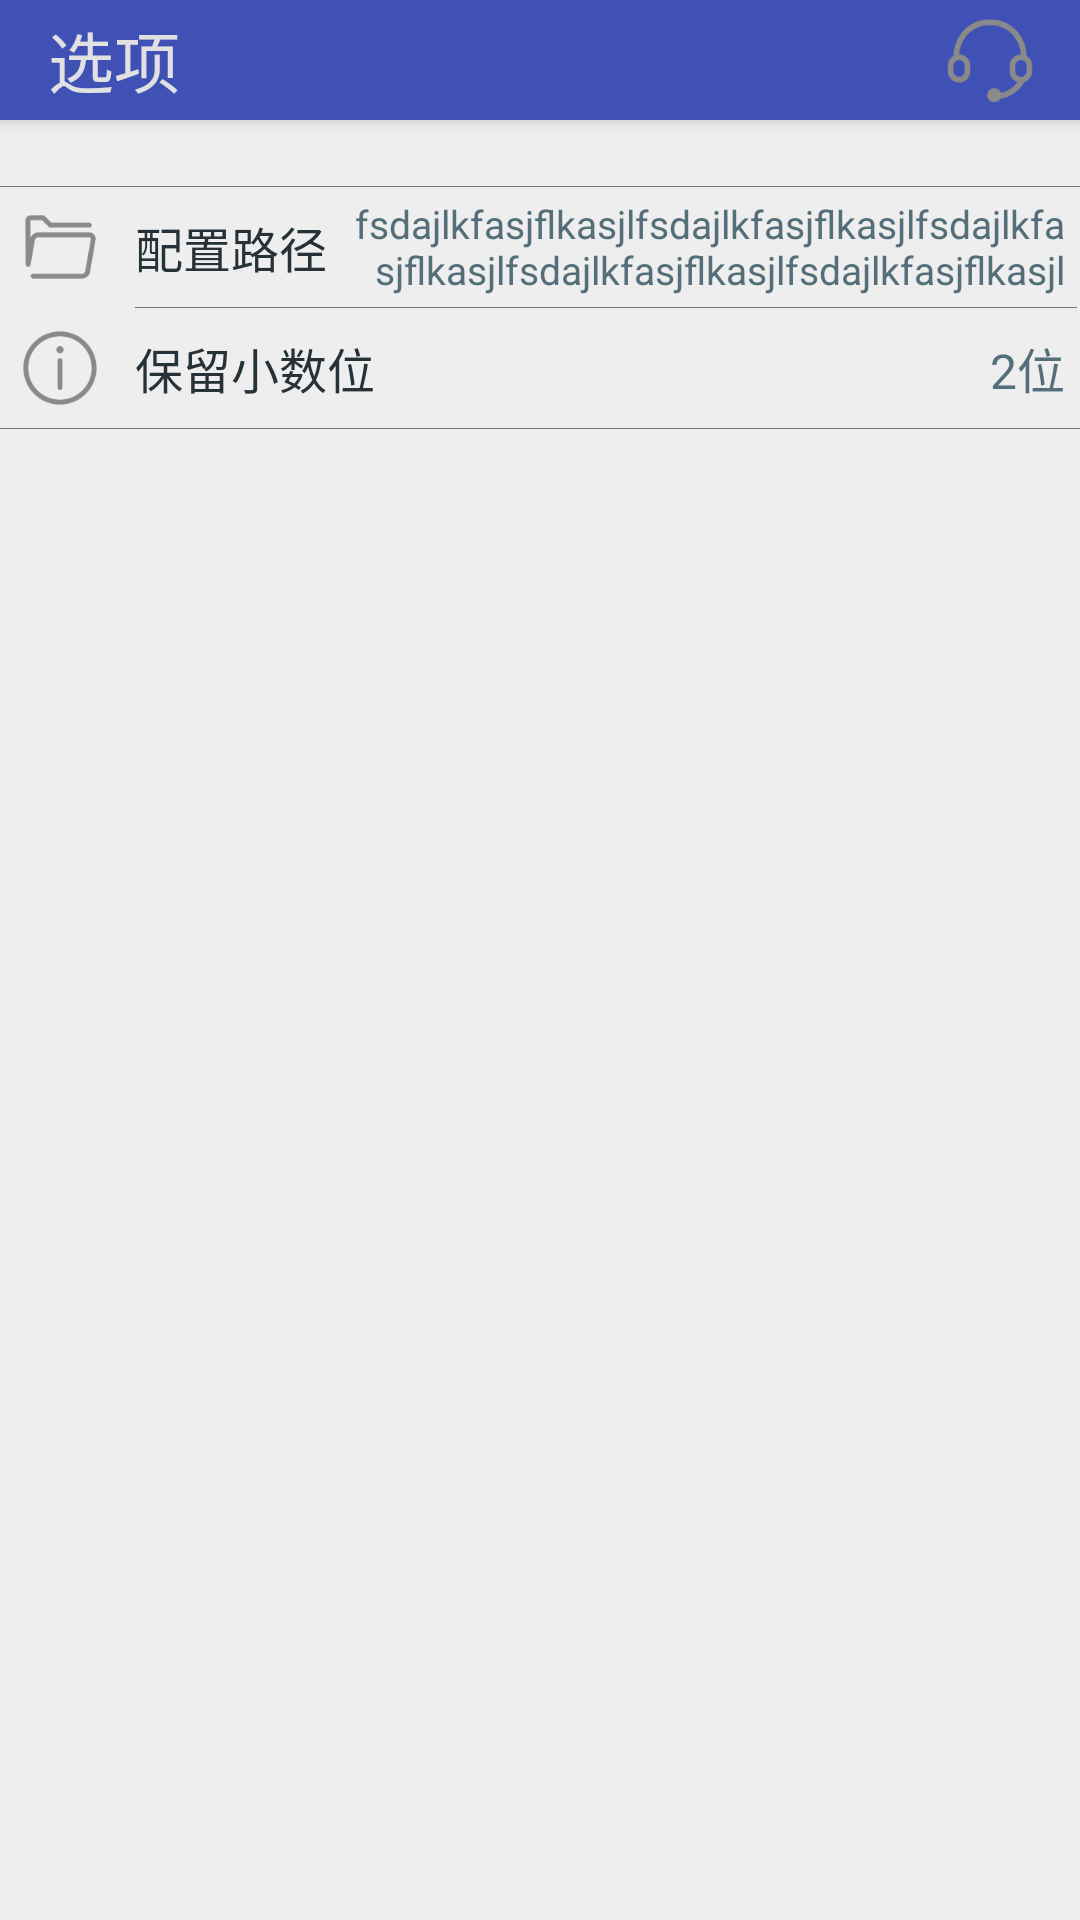

Screen size 1080w x 1920h. Icon name, then its box in pixels as (x1, y1, x2, y2):
infomation: (23, 331, 97, 405)
options filepath: (25, 215, 96, 279)
user service: (948, 19, 1032, 102)
